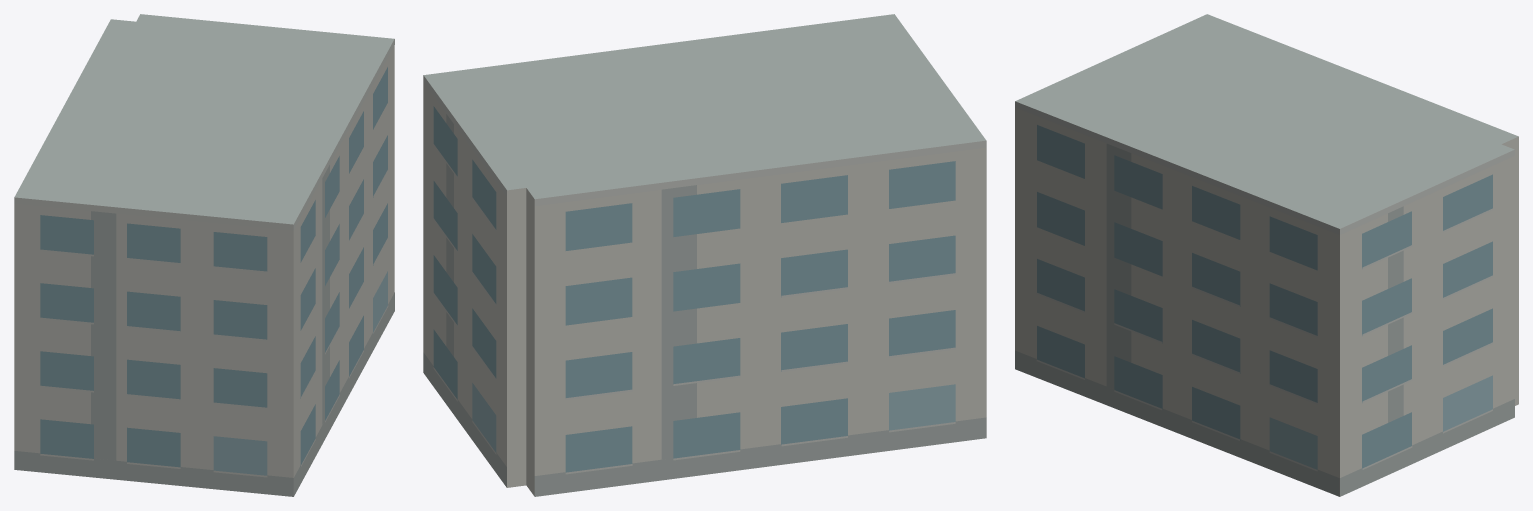
File: residential-42e408e4-bfd1-4513-bd17-5c2e0ae4fe40.glb
3 renders of one model, left to right at view 1: azimuth 30°, elevation 25°; view 2: azimuth 150°, elevation 25°; view 3: azimuth 270°, elevation 25°, orthographic. The views are drawn at different scales.
Parts seen in each view (by area): view 1: residential-42e408e4-bfd1-4513-bd17-5c2e0ae4fe40.tmp; view 2: residential-42e408e4-bfd1-4513-bd17-5c2e0ae4fe40.tmp; view 3: residential-42e408e4-bfd1-4513-bd17-5c2e0ae4fe40.tmp.
Part boxes in pixels (x1,y1,x2,y2): residential-42e408e4-bfd1-4513-bd17-5c2e0ae4fe40.tmp: [14, 14, 394, 496]; residential-42e408e4-bfd1-4513-bd17-5c2e0ae4fe40.tmp: [423, 14, 986, 496]; residential-42e408e4-bfd1-4513-bd17-5c2e0ae4fe40.tmp: [1015, 14, 1518, 496].
Bounding box in the file's own units: 18.23 × 10.59 × 18.05.
